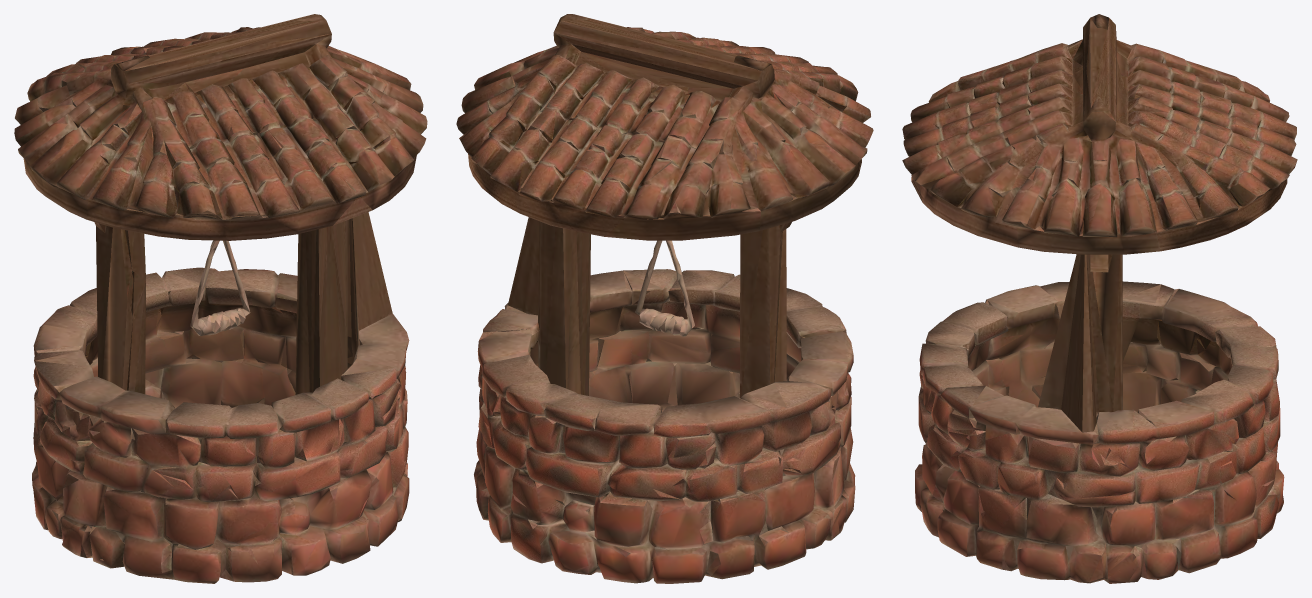
Rendered from well.glb.
The picture shows the model from 3 angles, left to right: view 1: azimuth 30°, elevation 25°; view 2: azimuth 150°, elevation 25°; view 3: azimuth 270°, elevation 25°; orthographic projection. The views are drawn at different scales.
Parts seen in each view (by area): view 1: well; view 2: well; view 3: well.
Boxes of the visible parts, x1,y1,x2,y2 form: well: (14,14,427,583); well: (456,14,873,583); well: (902,14,1297,583).
Bounding box in the file's own units: 2.51 × 3 × 2.4.
1 material, 1 textured.
